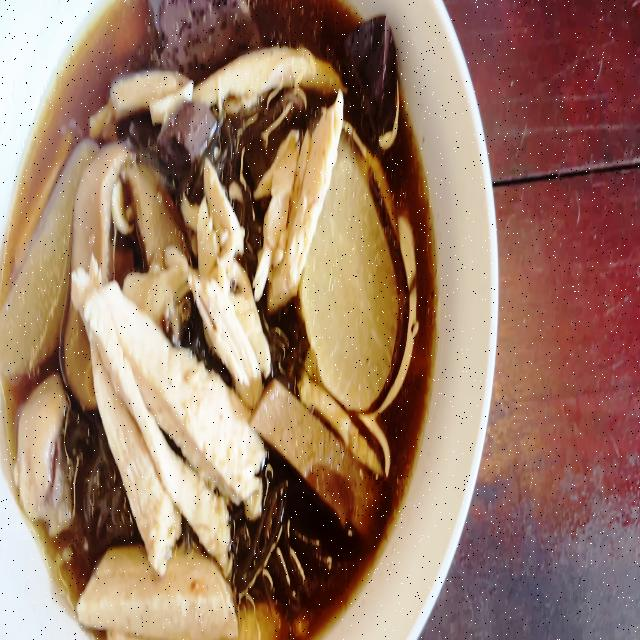boiled_chicken_blood_jelly: (148, 0, 258, 78), (345, 14, 399, 138), (152, 100, 216, 171)
chicken_shredded: (77, 279, 259, 546), (187, 154, 273, 400), (88, 542, 252, 640), (262, 95, 341, 296), (191, 48, 343, 96), (30, 385, 70, 523), (99, 59, 191, 115)
daikon_radish: (320, 169, 399, 408), (5, 123, 74, 378)
noodle: (5, 0, 423, 640)
